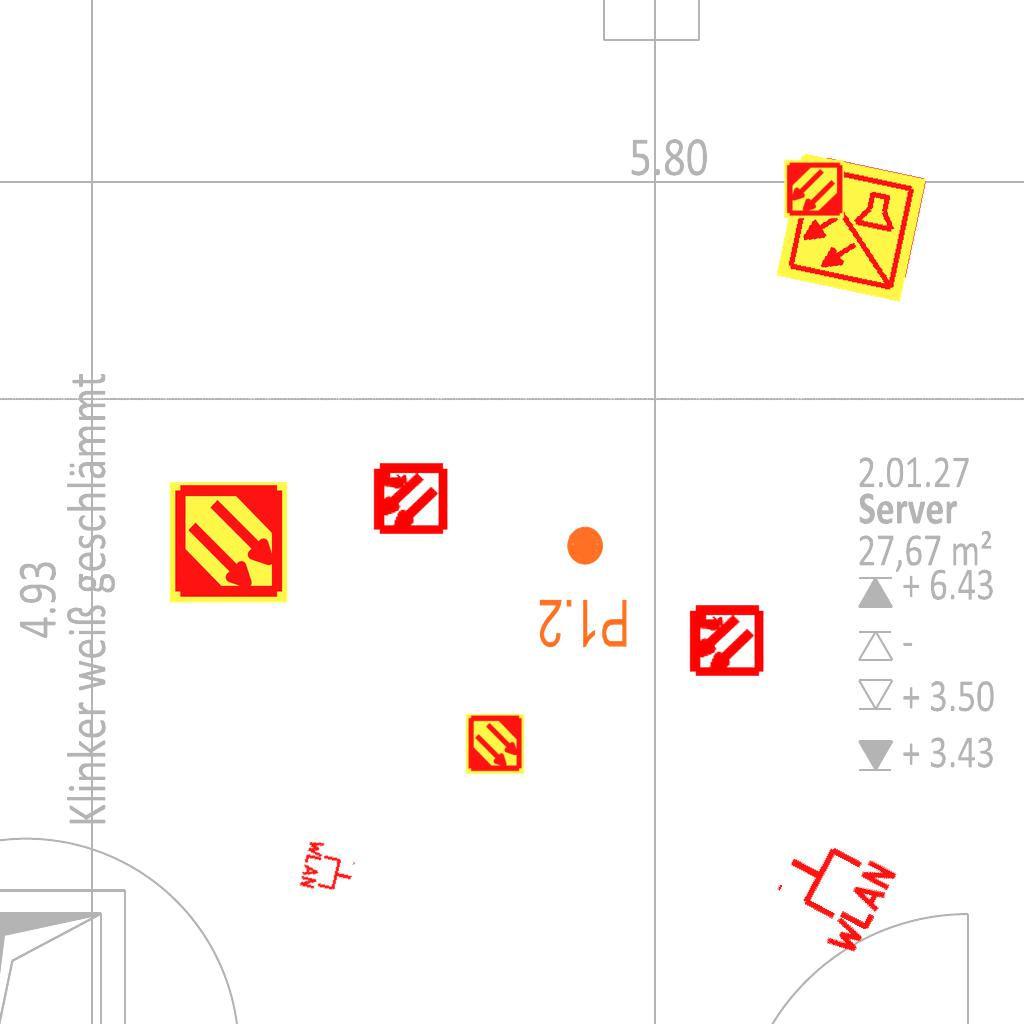ASR_Ansaugrauchmelder: (166, 480, 291, 605), (464, 713, 526, 775), (783, 158, 845, 220)
Downlight_LED_Einbauleuchten_Flur: (537, 523, 630, 651)
OKW_Multisensormelder_(Kombination_optischer_Rauch-Kahlenmonoxid_Waerme-Melder): (772, 148, 930, 306)
OT_Multisensormelder_(Kombination_RMO_WMD): (668, 584, 781, 697), (352, 442, 465, 555)
WLAN: (759, 821, 902, 963), (297, 836, 361, 900)
